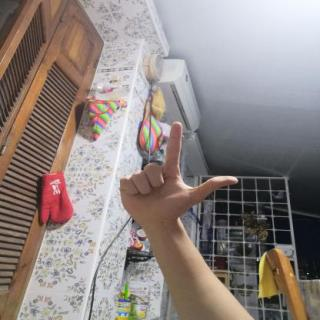LAAM: (105, 116, 246, 234)
